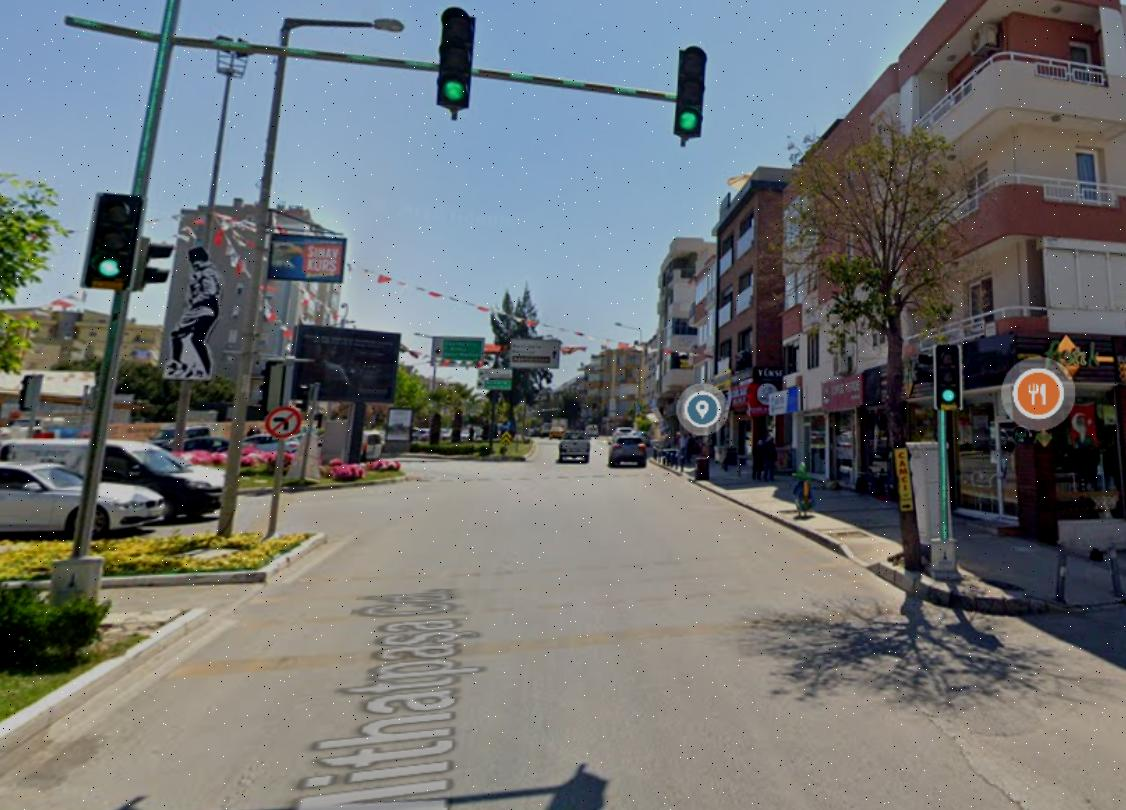greenlight: (97, 193, 130, 278), (442, 10, 469, 106), (681, 47, 700, 136), (934, 345, 960, 402)
